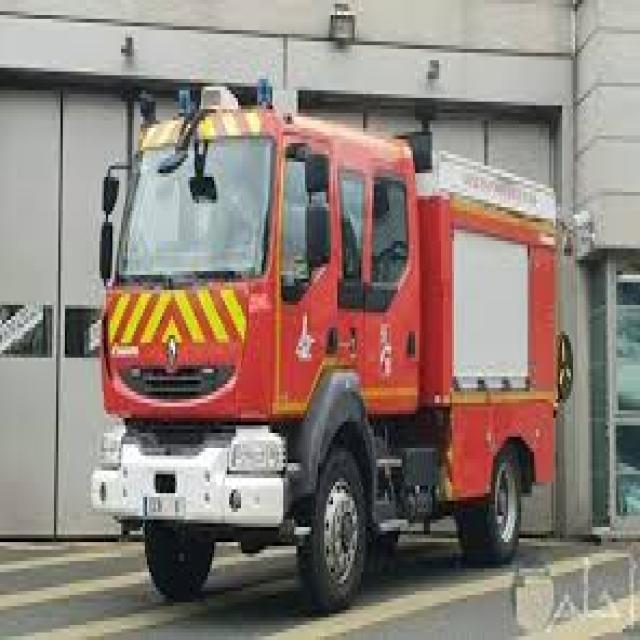emergency: (92, 87, 552, 599)
